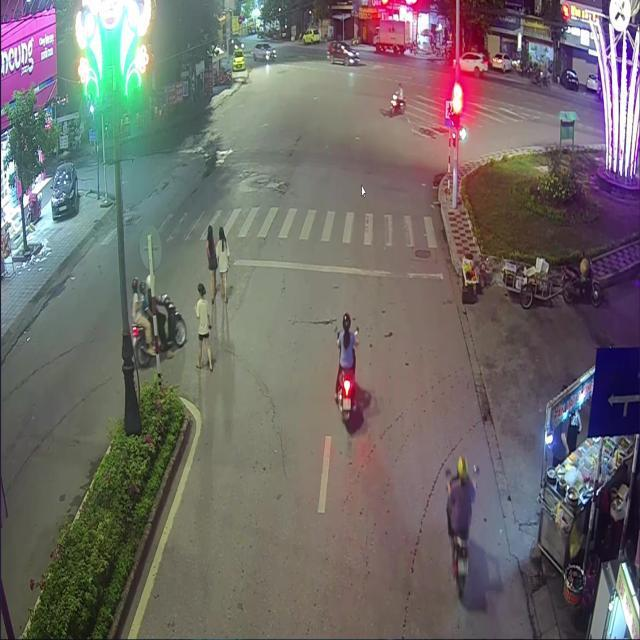motobike: (131, 292, 185, 368), (448, 533, 467, 600), (338, 370, 354, 423)
red_light: (452, 97, 459, 127)
stop_line: (231, 258, 442, 280)
